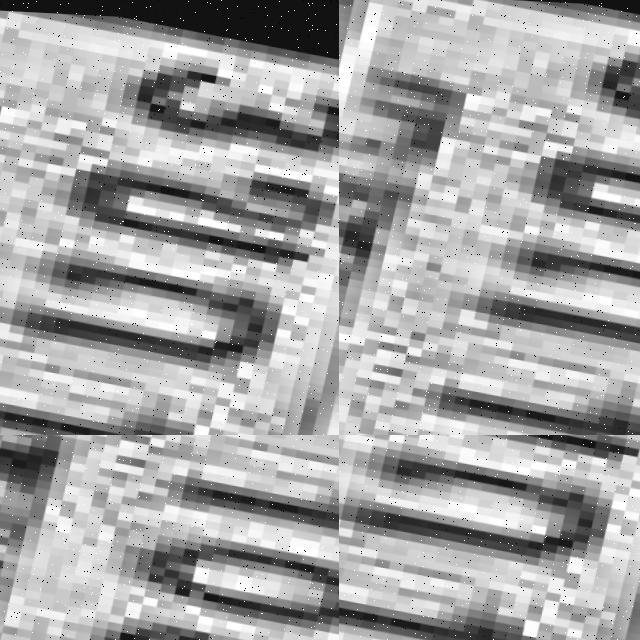license-plate: (0, 0, 339, 435), (339, 0, 640, 435), (0, 435, 339, 640), (339, 435, 640, 640)
